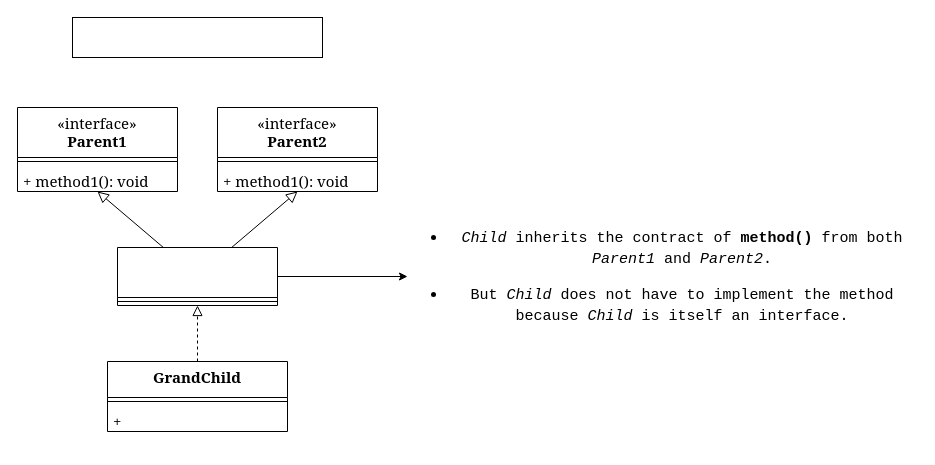
This 935x465 diagram has some shape labels left out. Each missing label, with the centre of its shape:
"Multiple Inheritance" goes at pixel 197 37.
"«interface » Child" goes at pixel 197 276.
